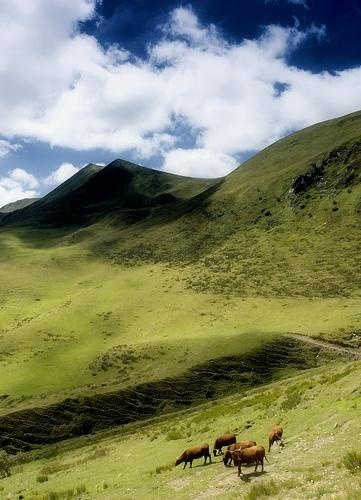cow: (175, 443, 212, 472), (223, 441, 258, 468), (238, 446, 265, 477), (215, 434, 236, 459), (269, 426, 283, 454)
